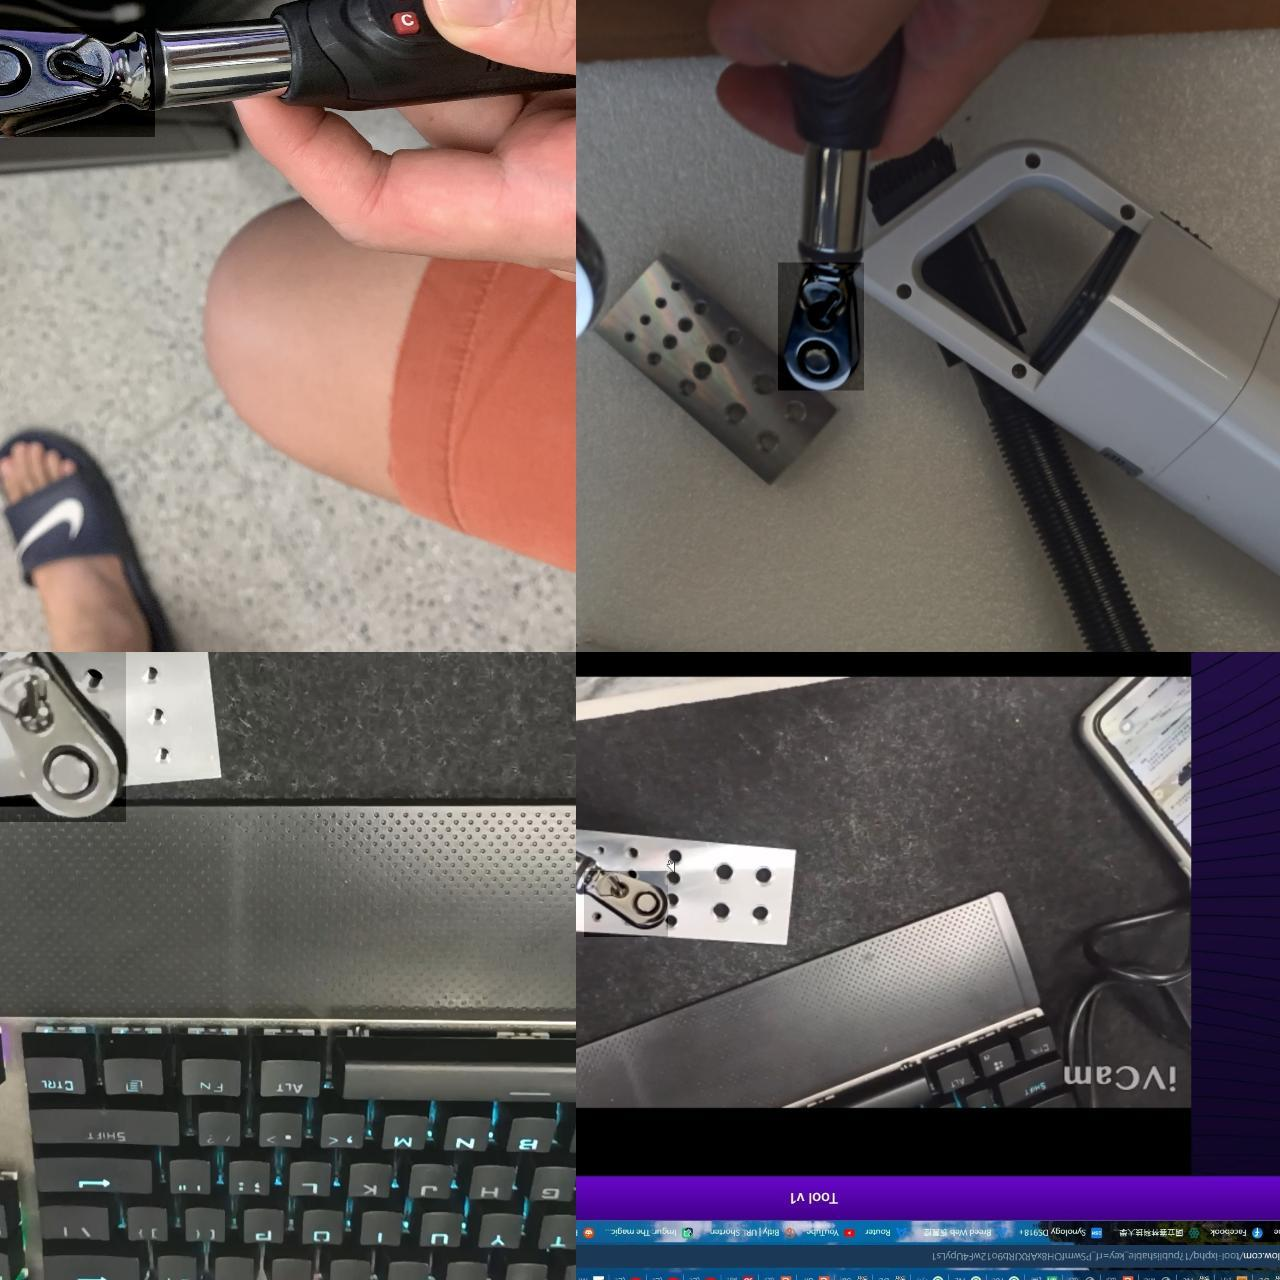Tool: (0, 652, 125, 822), (0, 27, 155, 137), (778, 263, 864, 390), (584, 871, 668, 937)
hole: (781, 402, 815, 428), (716, 402, 748, 427), (81, 666, 105, 696), (154, 735, 177, 765), (701, 341, 728, 367), (754, 367, 776, 397), (714, 857, 738, 883), (758, 430, 782, 457), (147, 707, 173, 728), (692, 358, 712, 386), (724, 324, 747, 347), (750, 866, 776, 886), (750, 906, 771, 928), (676, 373, 695, 397), (144, 665, 164, 687), (712, 899, 730, 922), (638, 308, 655, 333), (586, 905, 607, 925), (676, 314, 696, 333), (667, 846, 689, 863), (625, 845, 641, 867), (662, 912, 681, 931), (624, 328, 640, 349), (692, 299, 708, 318), (661, 334, 678, 350), (666, 870, 685, 884), (593, 840, 607, 859), (663, 894, 685, 906), (648, 350, 661, 369), (626, 866, 641, 881), (653, 295, 667, 312), (672, 278, 683, 294)
